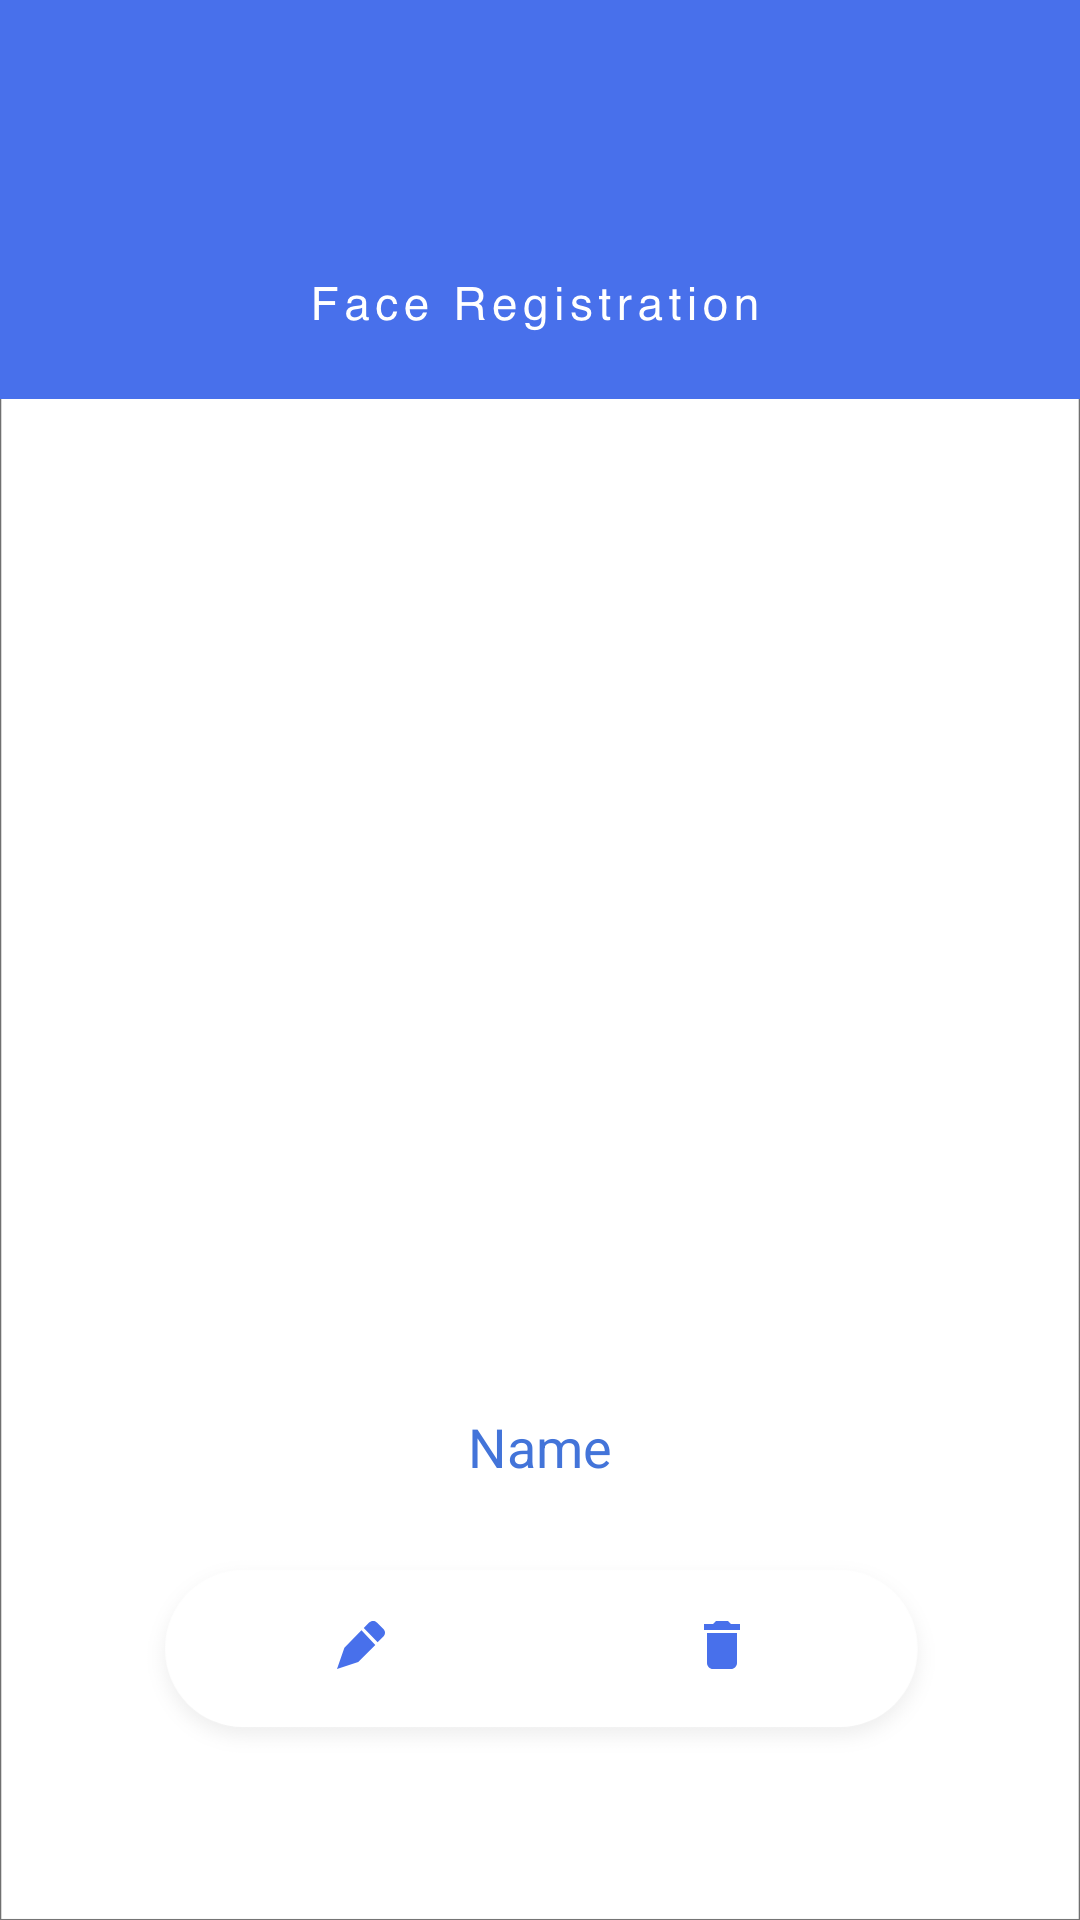

Icons on this 1080px x 1920px Android screen, each with its box as (x1,y1,x2,y2):
delete: (704,1621,740,1669)
pen: (337,1621,385,1669)
